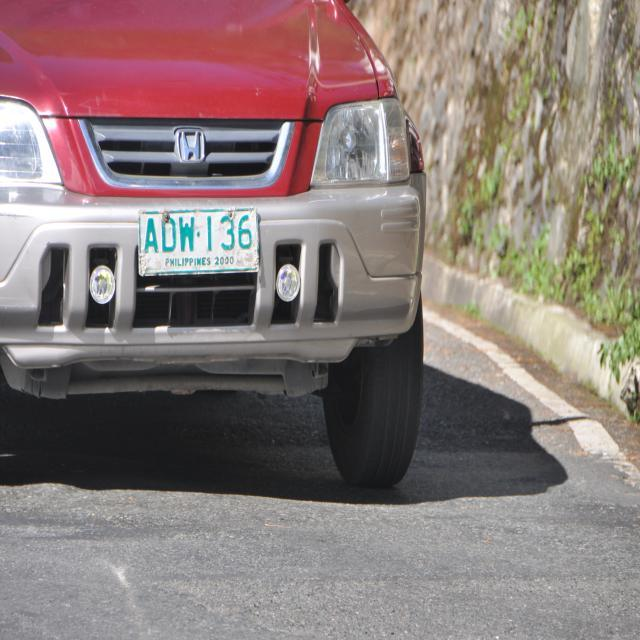LicensePlate: (133, 198, 266, 286)
